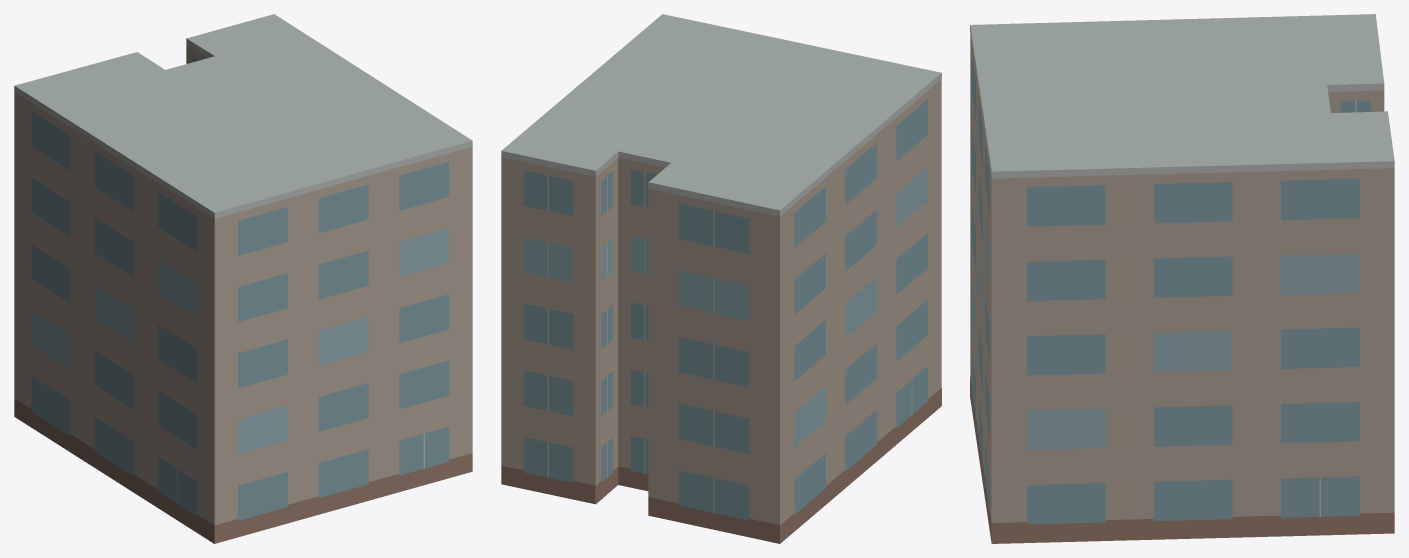
File: survey-upis-32842068.glb
3 renders of one model, left to right at view 1: azimuth 30°, elevation 25°; view 2: azimuth 150°, elevation 25°; view 3: azimuth 270°, elevation 25°, orthographic. The views are drawn at different scales.
Parts seen in each view (by area): view 1: survey-upis-32842068.tmp; view 2: survey-upis-32842068.tmp; view 3: survey-upis-32842068.tmp.
Part boxes in pixels (x1,y1,x2,y2): survey-upis-32842068.tmp: [14, 14, 472, 543]; survey-upis-32842068.tmp: [501, 14, 941, 543]; survey-upis-32842068.tmp: [970, 14, 1394, 543].
Size of the model in its own units: 11.95 by 13.15 by 13.6.
